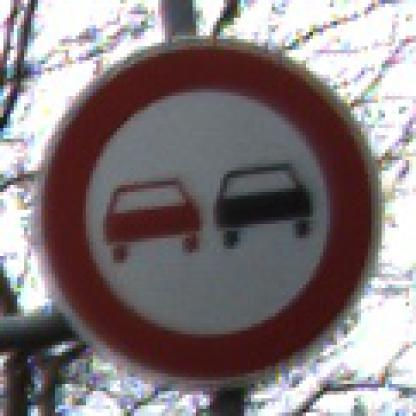No Overtaking: (36, 37, 383, 382)
